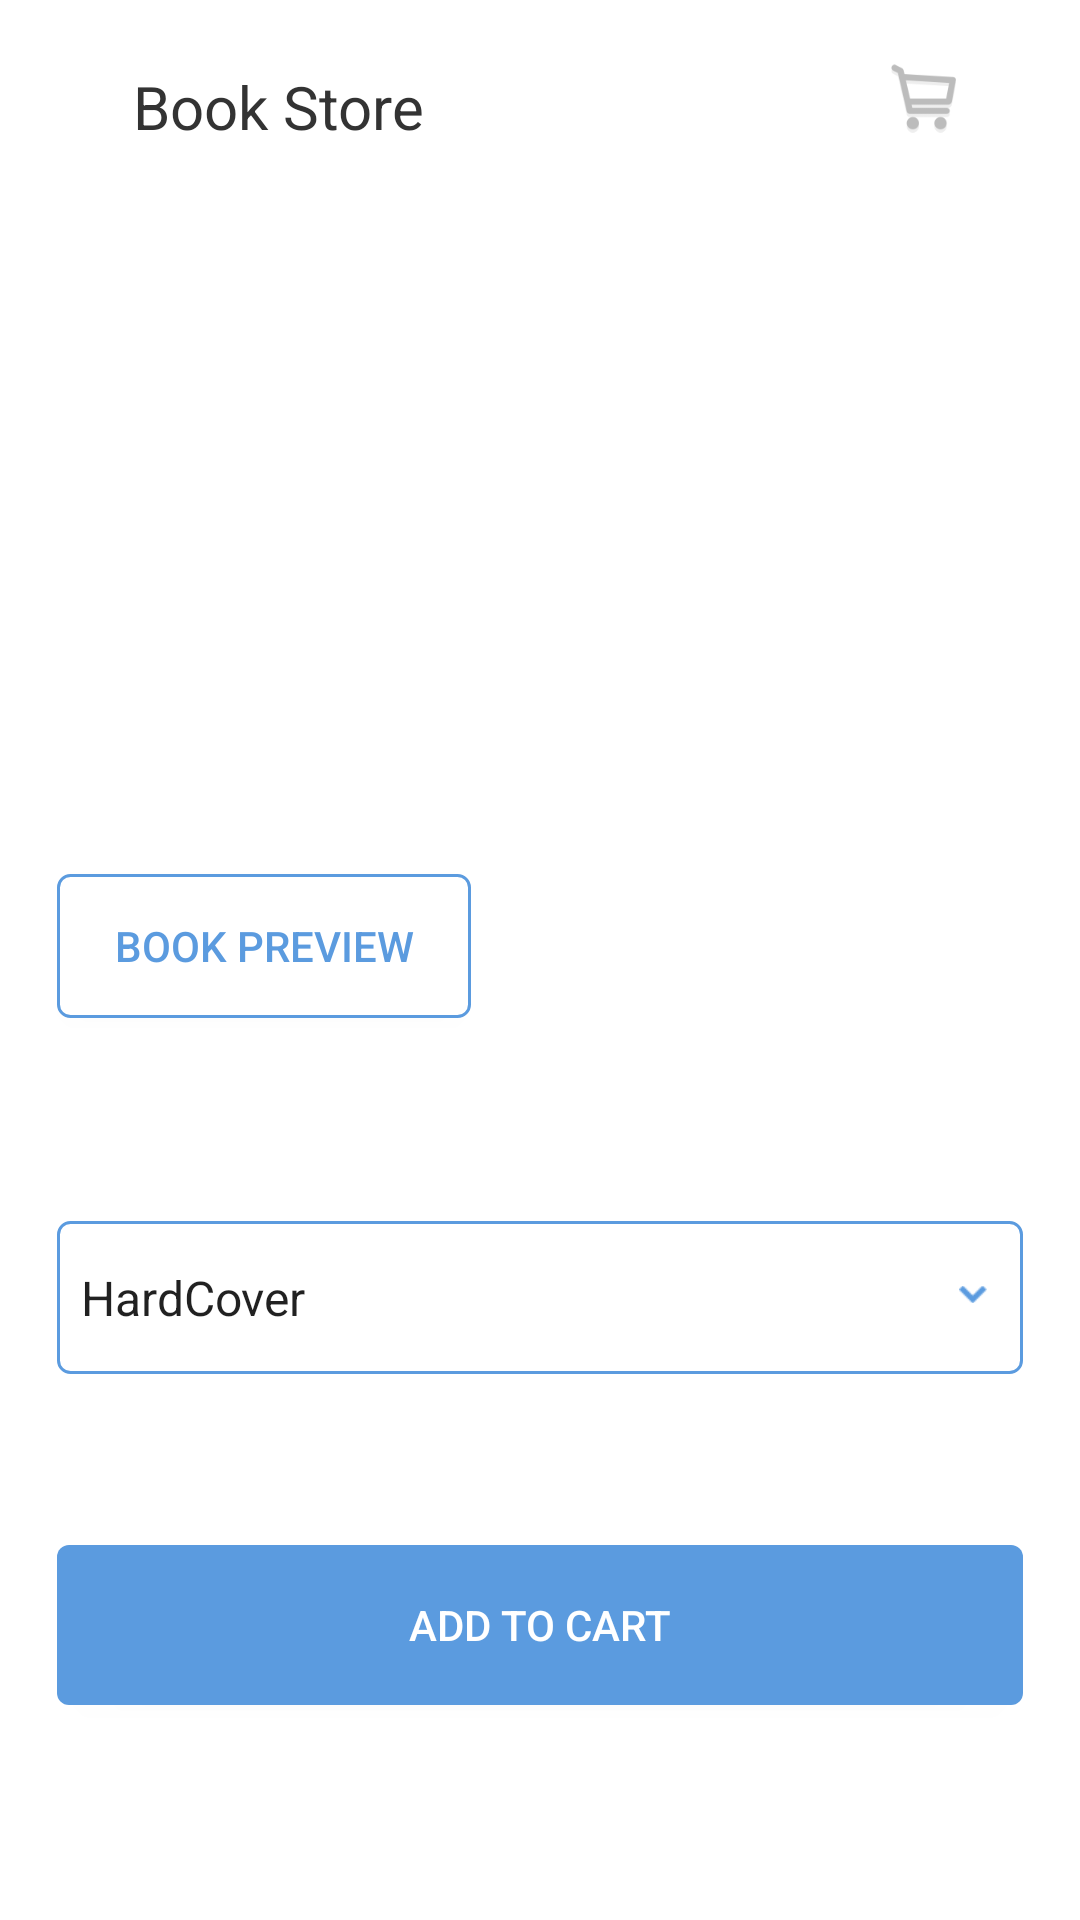

Icons on this 1080×1920 Android screen, each with its box as (left=x1, top=y1, right=x2, bottom=y2):
down arrow: (left=959, top=1286, right=987, bottom=1303)
shopping cart: (left=891, top=64, right=956, bottom=130)
